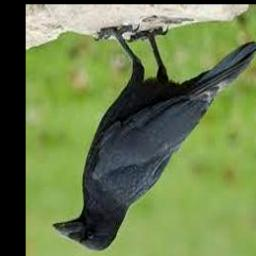Crow: (54, 25, 256, 252)
